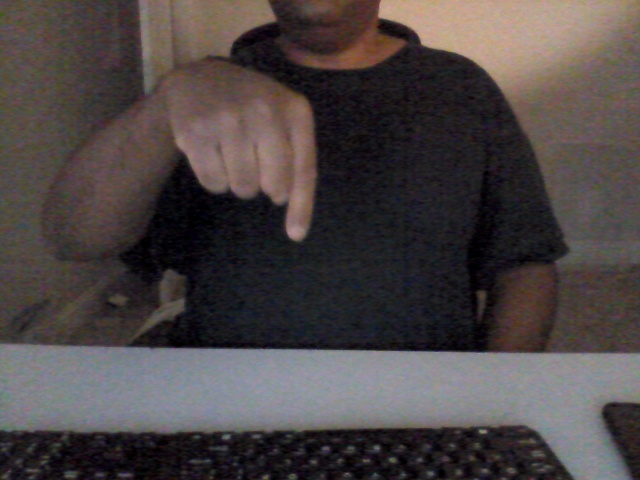down: (153, 54, 323, 264)
